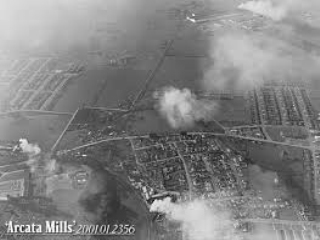smoke: (149, 186, 277, 240), (152, 78, 214, 128), (11, 135, 58, 178)
